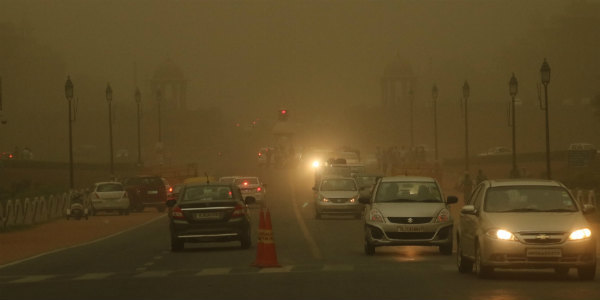car: (453, 177, 596, 281), (354, 175, 455, 254), (167, 179, 253, 249), (312, 176, 362, 218), (123, 175, 168, 208), (88, 181, 129, 215), (233, 174, 268, 202), (328, 148, 360, 171), (473, 143, 518, 157), (306, 150, 331, 172), (567, 140, 597, 151), (167, 181, 185, 195)
